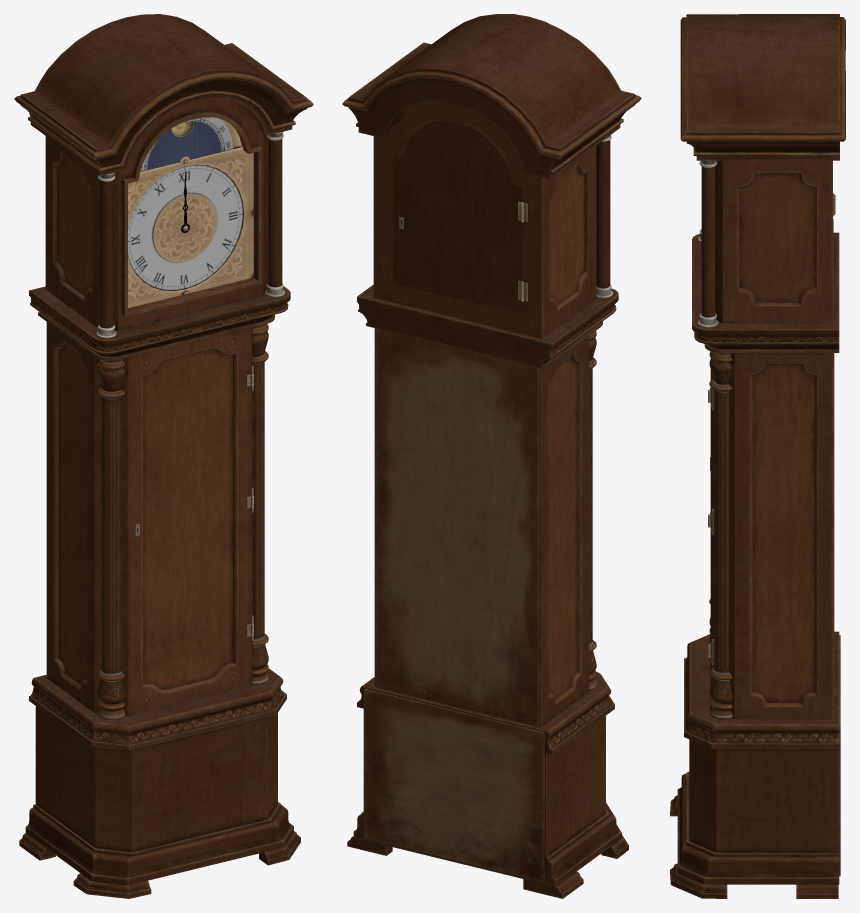
The model's file is grandfather_clock.glb.
The picture shows the model from 3 angles, left to right: view 1: azimuth 30°, elevation 25°; view 2: azimuth 150°, elevation 25°; view 3: azimuth 270°, elevation 25°; orthographic projection. The views are drawn at different scales.
Parts seen in each view (by area): view 1: Body, MoonDisk; view 2: Body; view 3: Body.
Boxes of the visible parts, x1,y1,x2,y2 form: Body: [14, 14, 313, 898]; MoonDisk: [147, 121, 221, 170]; Body: [342, 14, 641, 898]; Body: [670, 14, 845, 898].
Bounding box in the file's own units: 0.6256 × 2.19 × 0.4266.
Materials: 3 (3 with a texture image).
